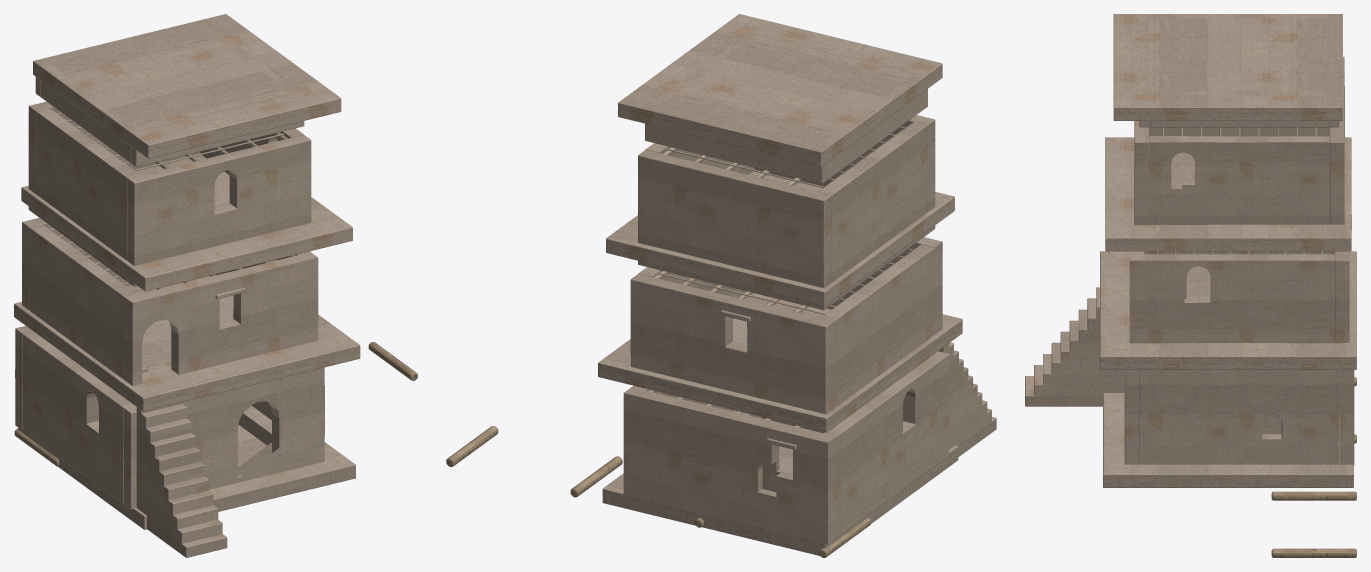
Rendered from tower_7.glb.
The picture shows the model from 3 angles, left to right: view 1: azimuth 30°, elevation 25°; view 2: azimuth 150°, elevation 25°; view 3: azimuth 270°, elevation 25°; orthographic projection. The views are drawn at different scales.
Visible parts, largest first — view 1: tower; view 2: tower; view 3: tower.
Boxes of the visible parts, bbox=[...] form: tower: bbox=[14, 14, 417, 557]; tower: bbox=[446, 14, 996, 557]; tower: bbox=[1025, 14, 1356, 557].
Size of the model in its own units: 4.88 by 4.88 by 3.9.
3 materials, 3 textured.
